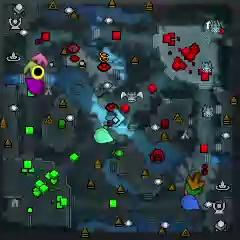p1: (181, 195, 199, 211)
p2: (95, 129, 113, 144)
p3: (25, 77, 46, 95)
p4Clone: (31, 66, 45, 79)
x1: (32, 53, 49, 67)
x2: (24, 61, 43, 77)
x3: (107, 108, 125, 126)
x4: (185, 183, 204, 196)
x5: (187, 172, 203, 190)
